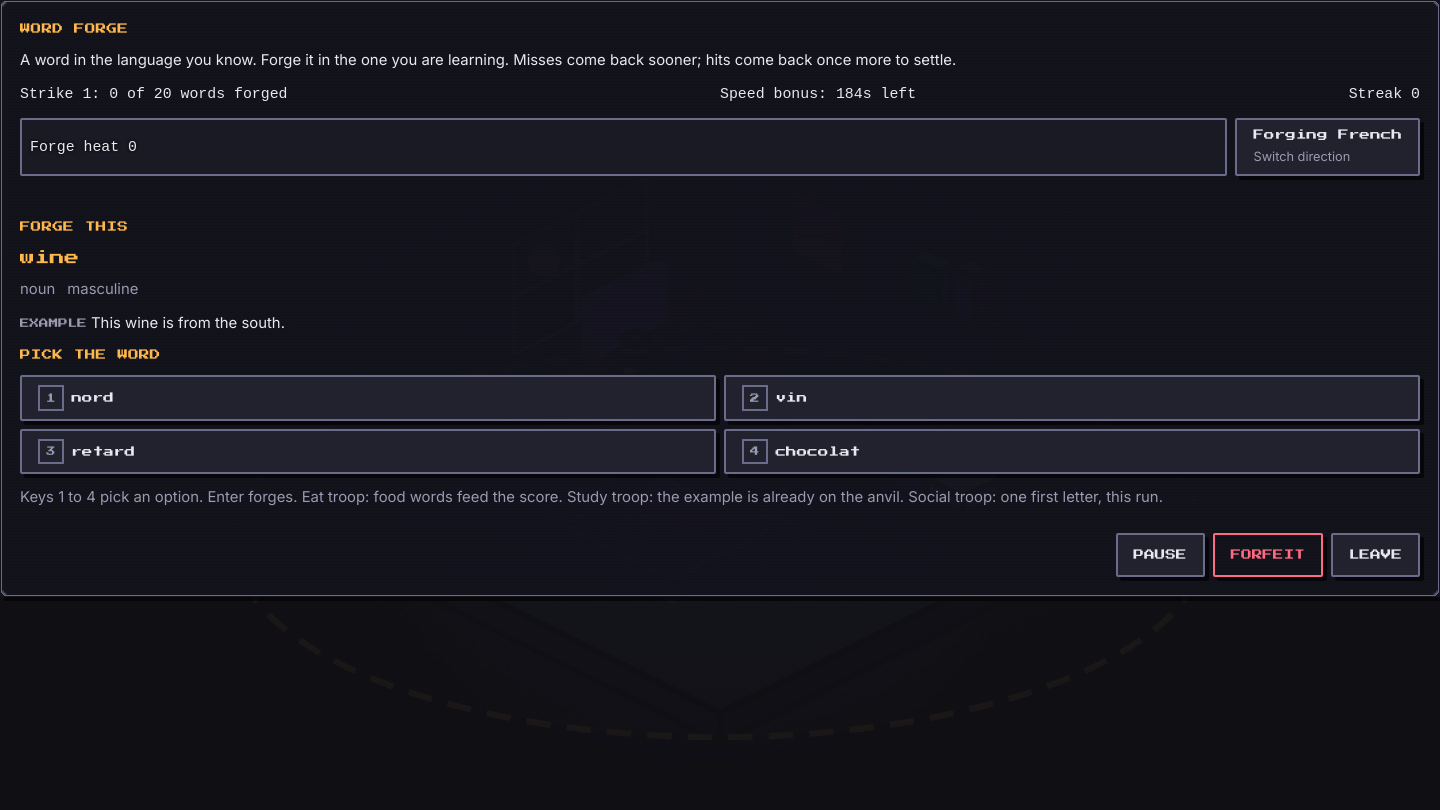
Word Forge screen › hides the card while paused, and number keys do nothing then
Click the button "Pause" at (1160, 555), box x1=1116 y1=533 x2=1205 y2=577
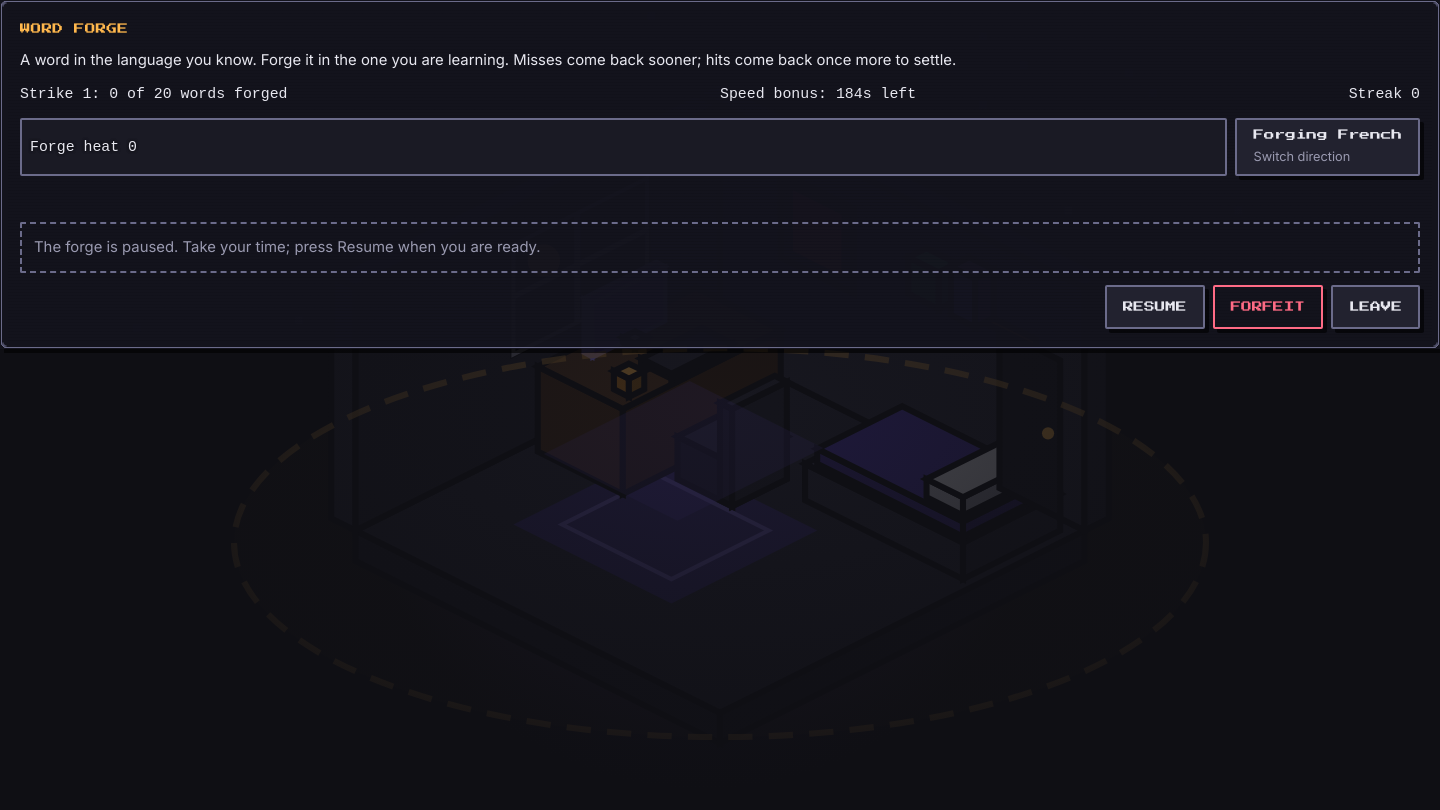
Result: the list with test id "word-forge-options" is gone
Result: the text "forge is paused" is shown at x1=34 y1=238 x2=541 y2=256
Press 1
Expected: the text with test id "word-forge-progress" shows "Strike 1", x1=20 y1=86 x2=288 y2=102
Click the button "Resume" at (1155, 307), box x1=1105 y1=285 x2=1205 y2=329
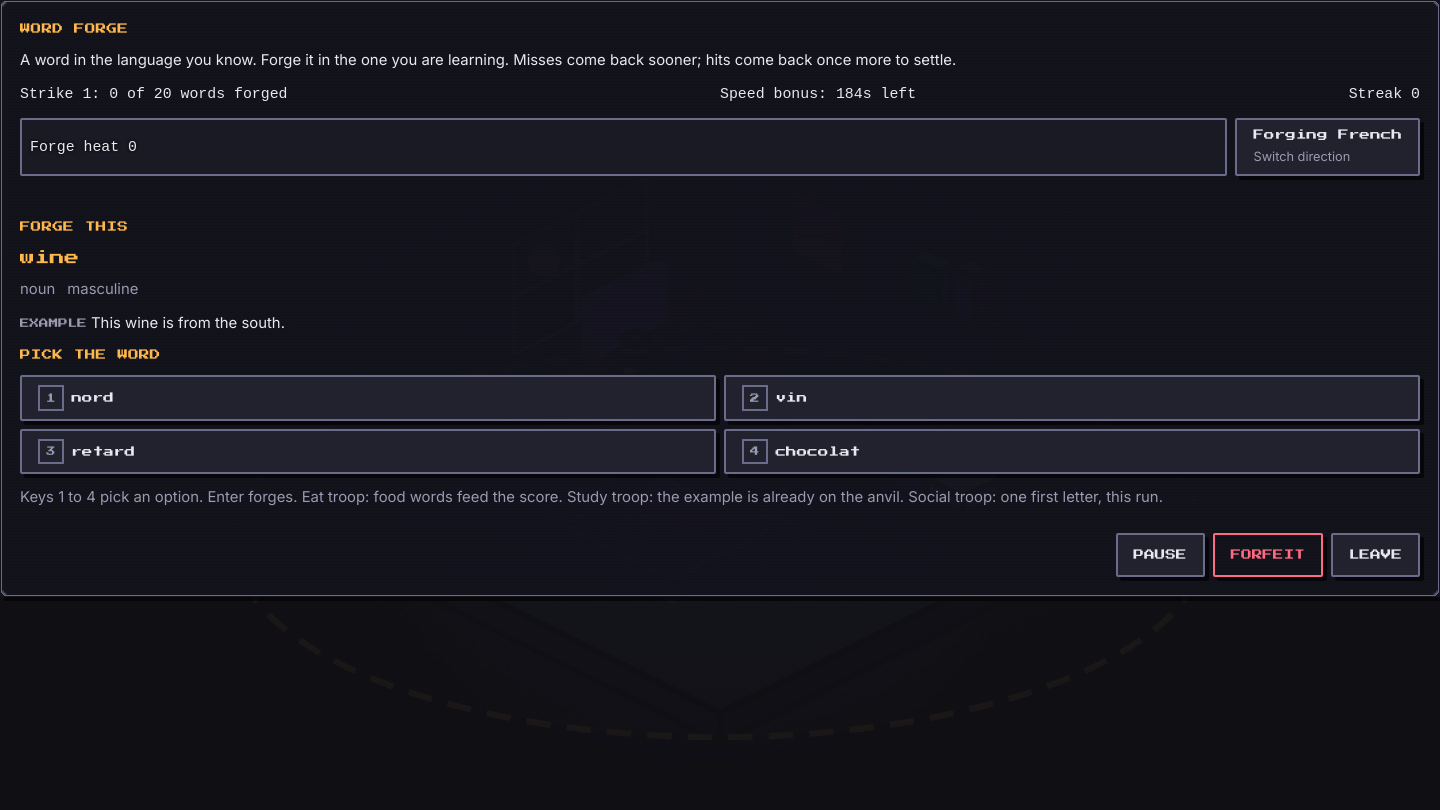
Result: the list with test id "word-forge-options" is shown at x1=20 y1=375 x2=1420 y2=474
